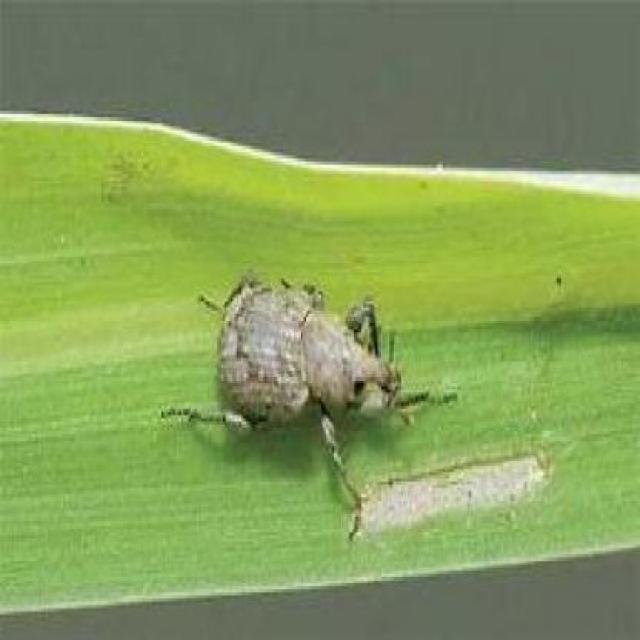rice-bug: (198, 264, 402, 507)
